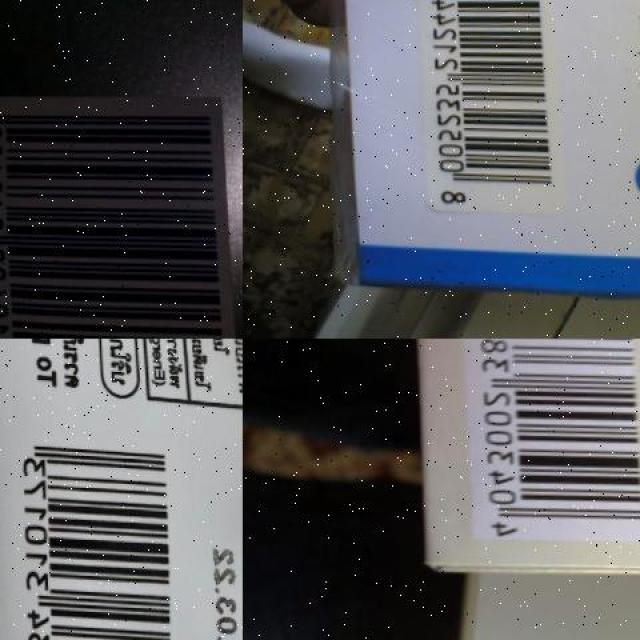Barcode: (0, 86, 236, 338), (9, 424, 183, 640), (453, 338, 640, 538), (418, 0, 554, 208)
